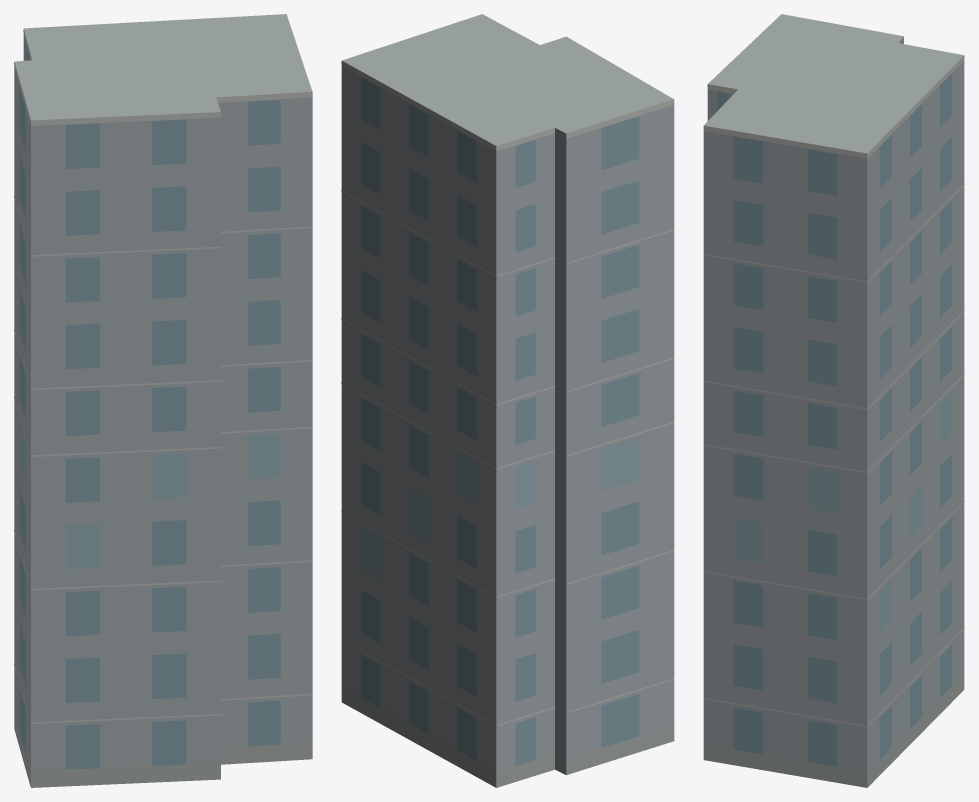
The model's file is survey-upis-32868895.glb.
The picture shows the model from 3 angles, left to right: view 1: azimuth 30°, elevation 25°; view 2: azimuth 150°, elevation 25°; view 3: azimuth 270°, elevation 25°; orthographic projection. The views are drawn at different scales.
Parts seen in each view (by area): view 1: survey-upis-32868895.tmp; view 2: survey-upis-32868895.tmp; view 3: survey-upis-32868895.tmp.
Boxes of the visible parts, box(x1,y1,x2,y2) form: survey-upis-32868895.tmp: box(14, 14, 312, 787); survey-upis-32868895.tmp: box(341, 14, 674, 787); survey-upis-32868895.tmp: box(703, 14, 964, 787).
Size of the model in its own units: 13.7 by 29 by 10.83.
